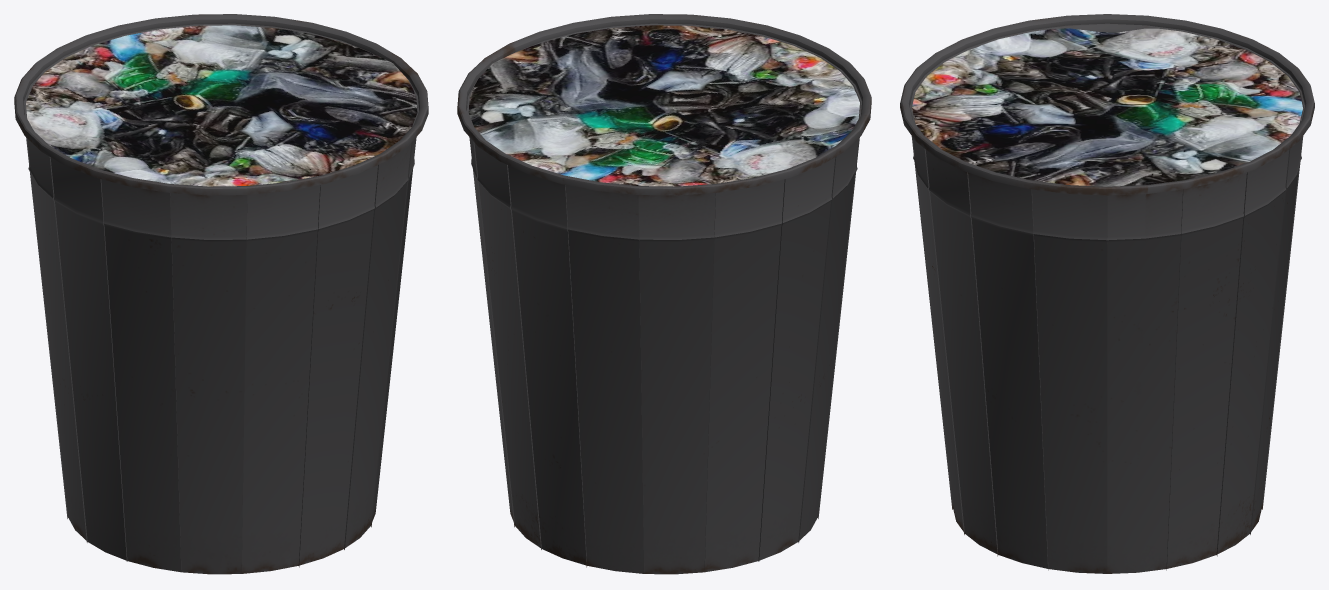
The model's file is 쓰래기통.fbx.
3 renders of one model, left to right at view 1: azimuth 30°, elevation 25°; view 2: azimuth 150°, elevation 25°; view 3: azimuth 270°, elevation 25°, orthographic.
Visible parts, largest first — view 1: 쓰레기통, 쓰레기통만땅; view 2: 쓰레기통, 쓰레기통만땅; view 3: 쓰레기통, 쓰레기통만땅.
Part boxes in pixels (x1,y1,x2,y2): 쓰레기통: (14, 14, 428, 574); 쓰레기통만땅: (26, 25, 417, 186); 쓰레기통: (457, 14, 871, 574); 쓰레기통만땅: (468, 25, 859, 186); 쓰레기통: (900, 14, 1314, 573); 쓰레기통만땅: (912, 28, 1302, 186).
Bounding box in the file's own units: 57.23 × 62.35 × 57.23.
